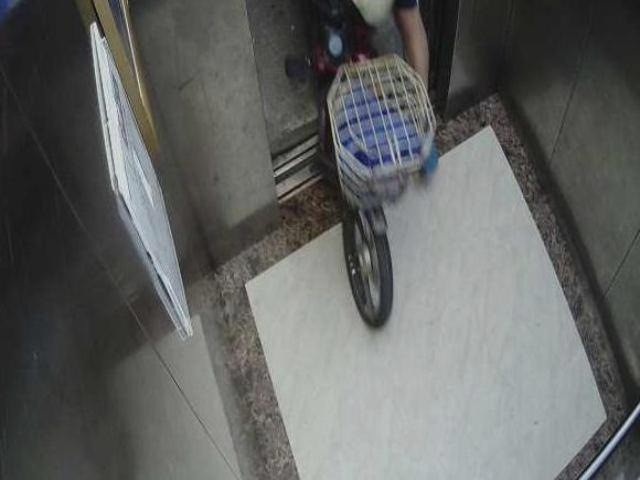emotor: (284, 10, 439, 343)
